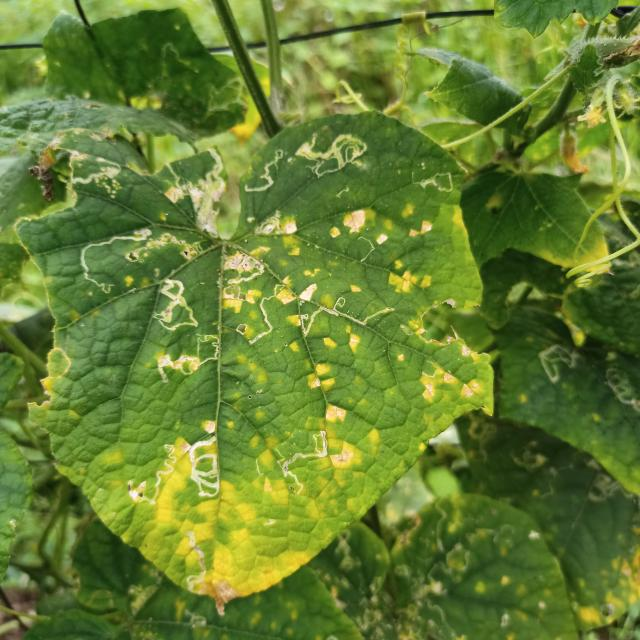disease_cucumber: (237, 201, 494, 473), (98, 404, 404, 593)
